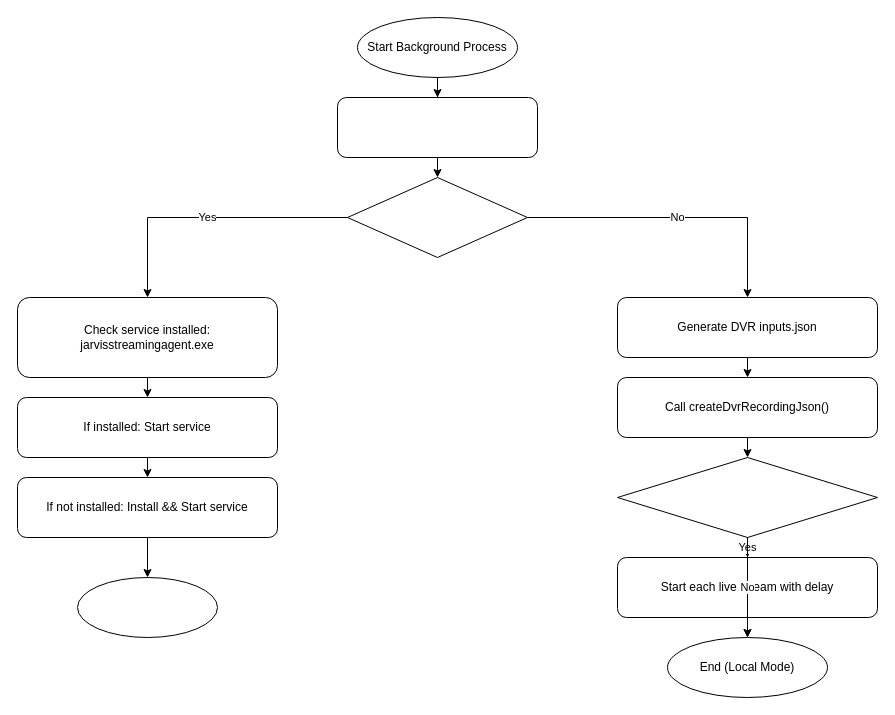
Image size: 895x715. Some labels were removed from this diagram. Each missing label, with the centre of its shape:
Are any live cameras available?: pixel 747 497
End (Service Mode): pixel 147 607
Is Windows Service Installed?: pixel 437 217
Log: Start background process: pixel 437 127
